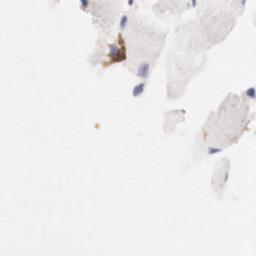nucleus: (133, 82, 145, 97), (138, 61, 149, 75), (246, 87, 256, 98), (107, 44, 119, 53), (120, 16, 128, 29), (208, 148, 224, 154), (80, 1, 88, 7), (192, 1, 197, 8), (242, 1, 246, 6), (128, 1, 134, 4)
positive_cell: (105, 36, 127, 64)
